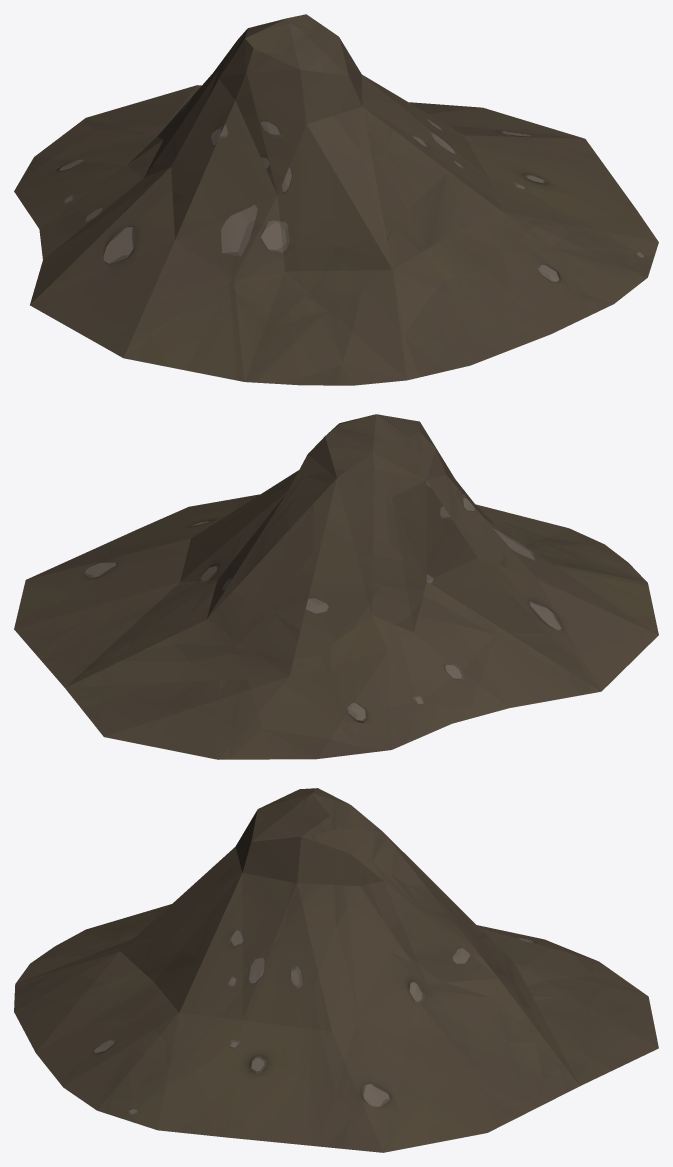
The model's file is synty-terrain-dustpile-small-02.gltf.
3 renders of one model, top to bottom at view 1: azimuth 30°, elevation 25°; view 2: azimuth 150°, elevation 25°; view 3: azimuth 270°, elevation 25°, orthographic. The views are drawn at different scales.
Visible parts, largest first — view 1: SM_Terrain_DustPile_Small_02; view 2: SM_Terrain_DustPile_Small_02; view 3: SM_Terrain_DustPile_Small_02.
Boxes of the visible parts, <box> form: SM_Terrain_DustPile_Small_02: <box>14,14,658,385</box>; SM_Terrain_DustPile_Small_02: <box>14,414,658,759</box>; SM_Terrain_DustPile_Small_02: <box>14,788,658,1152</box>.
Size of the model in its own units: 0.6112 by 0.2305 by 0.6412.
1 material, 1 textured.
